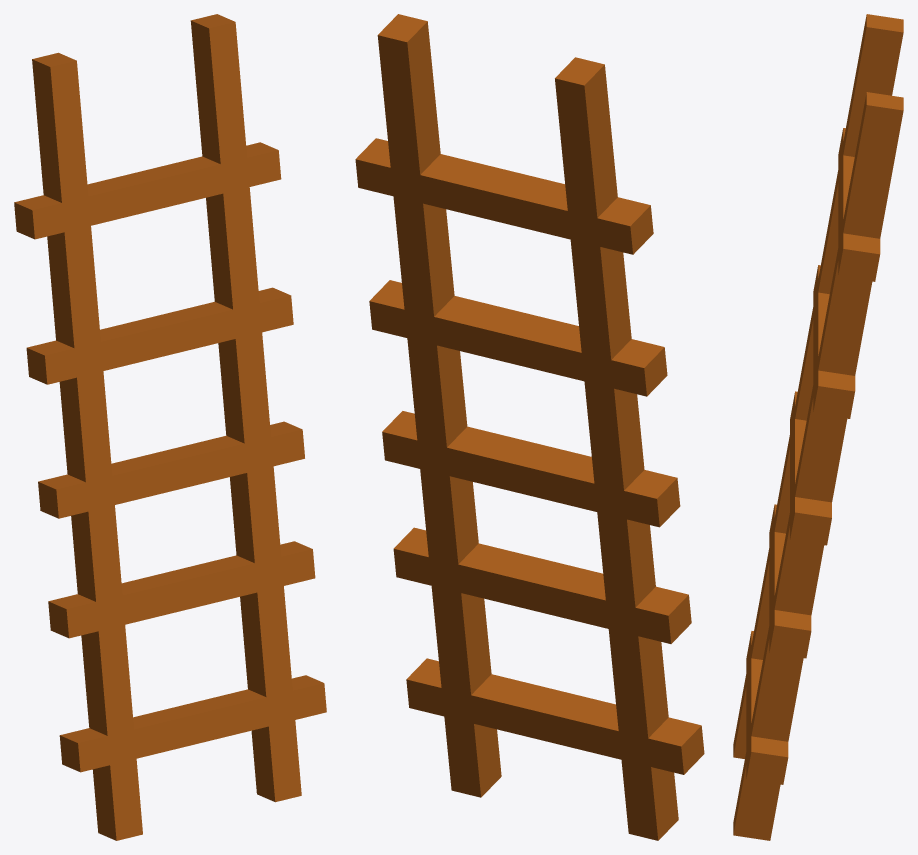
File: ladder.glb
3 renders of one model, left to right at view 1: azimuth 30°, elevation 25°; view 2: azimuth 150°, elevation 25°; view 3: azimuth 270°, elevation 25°, orthographic. The views are drawn at different scales.
Parts seen in each view (by area): view 1: ladder; view 2: ladder; view 3: ladder.
Part boxes in pixels (box(x1,y1,x2,y2)): ladder: box(14, 14, 326, 840); ladder: box(355, 14, 704, 840); ladder: box(733, 14, 903, 840).
Size of the model in its own units: 1 by 2.84 by 0.5945.
